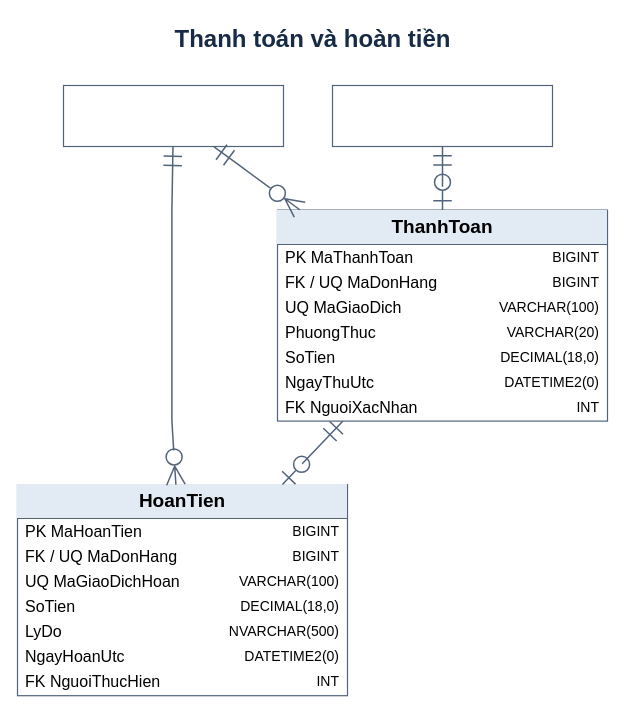
Image size: 626x713. Some labels were removed from this diagram. Here are the shapes that lost their labels. From the top down, the centre of each, then its label:
the point at 173,115: TaiKhoan ↗ PK MaTaiKhoan
the point at 442,115: DonHang ↗ PK MaDonHang
